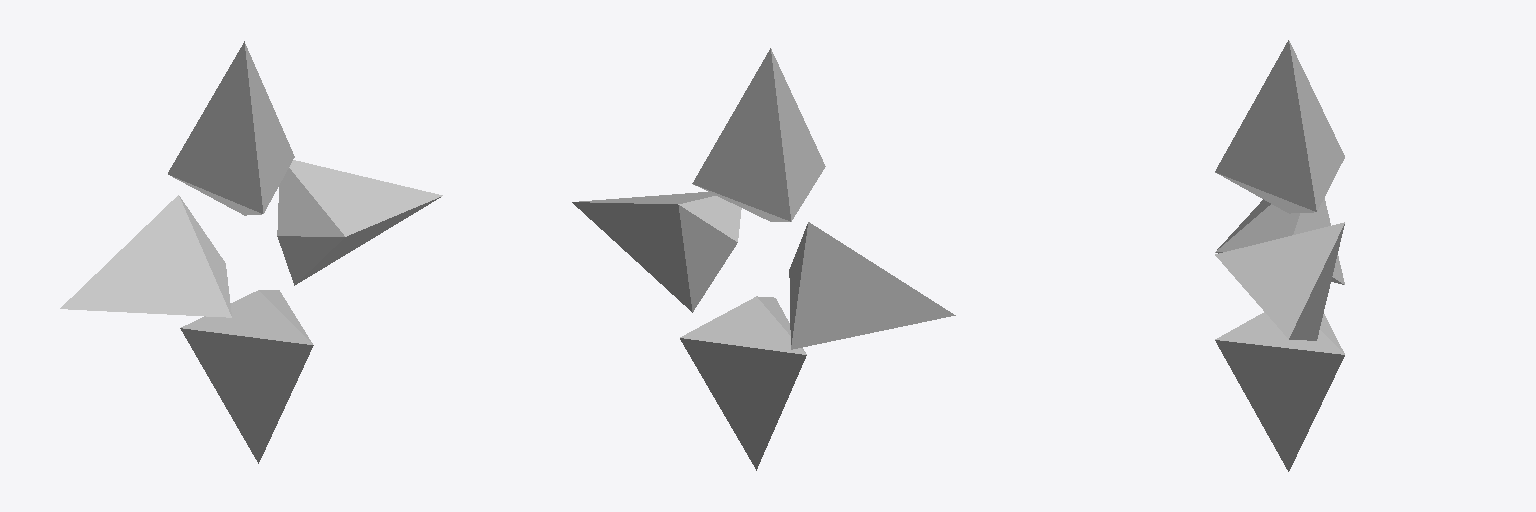
The model's file is SpikeRing.obj.
3 renders of one model, left to right at view 1: azimuth 30°, elevation 25°; view 2: azimuth 150°, elevation 25°; view 3: azimuth 270°, elevation 25°, orthographic.
Visible parts, largest first — view 1: PolySpikeSimple8; view 2: PolySpikeSimple8; view 3: PolySpikeSimple8.
Boxes of the visible parts, box(x1,y1,x2,y2) form: PolySpikeSimple8: box(60, 41, 442, 463); PolySpikeSimple8: box(572, 48, 955, 470); PolySpikeSimple8: box(1215, 40, 1344, 471).
Bounding box in the file's own units: 27.09 × 28.72 × 7.98.